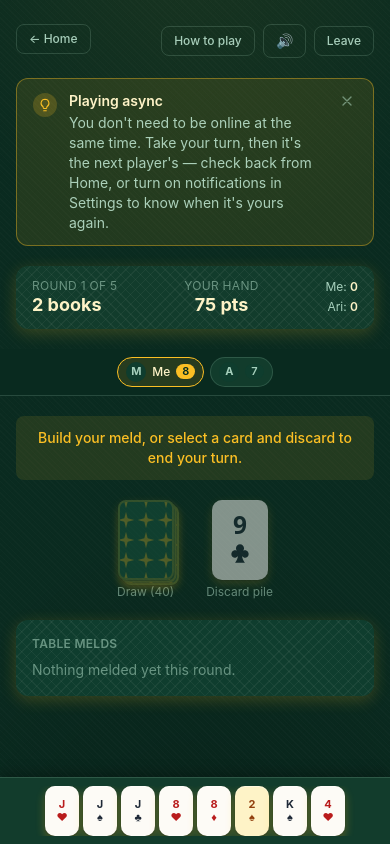
Test: multiplayer play screen — individual actions like solo › Confirm Meld stays disabled until the staged groups complete the contract
Click the button named "Jump to your hand". click: x=195, y=810
box: [0,777,389,843]
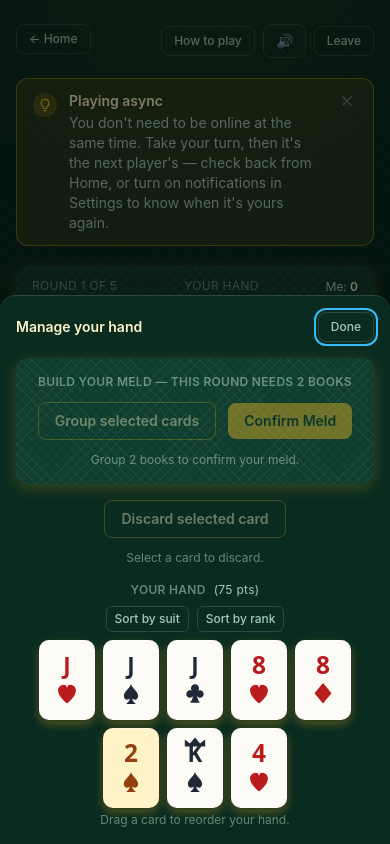
Press Enter in the button named "Jack of hearts", box [39,640,95,720]
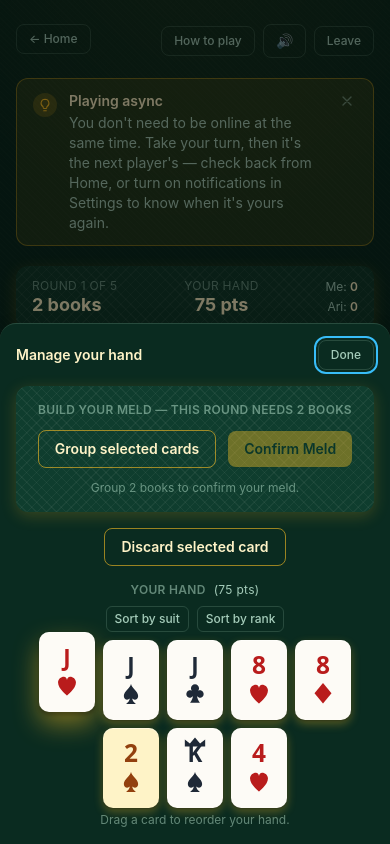
Press Enter in the button named "Jack of spades", box [103,640,159,720]
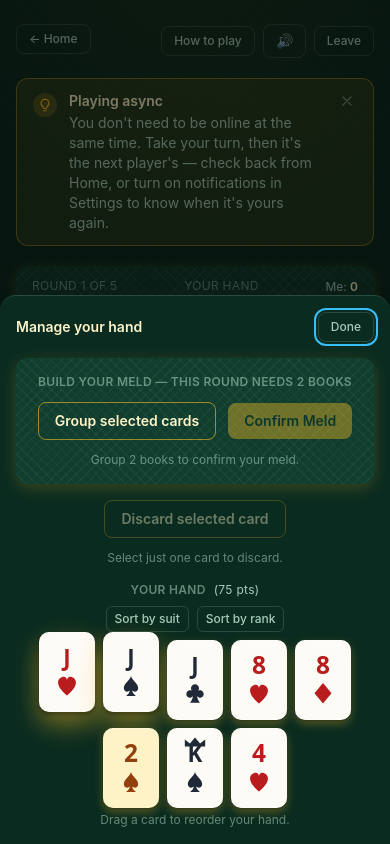
Press Enter in the button named "Jack of clubs", box [167,640,223,720]
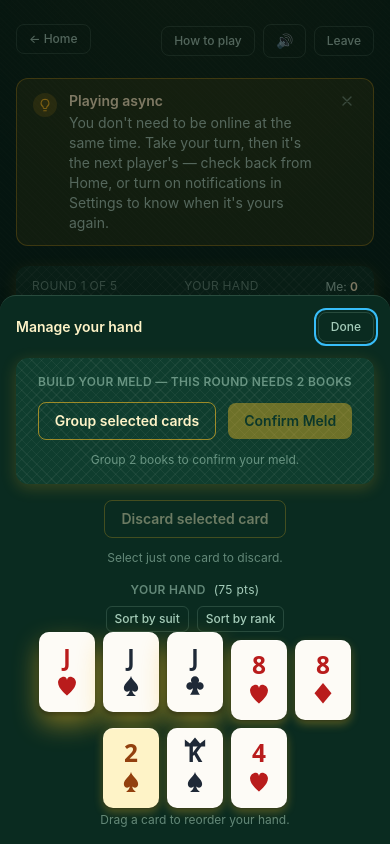
Click the button "Group selected cards". click: x=127, y=421
box: [38,402,216,440]
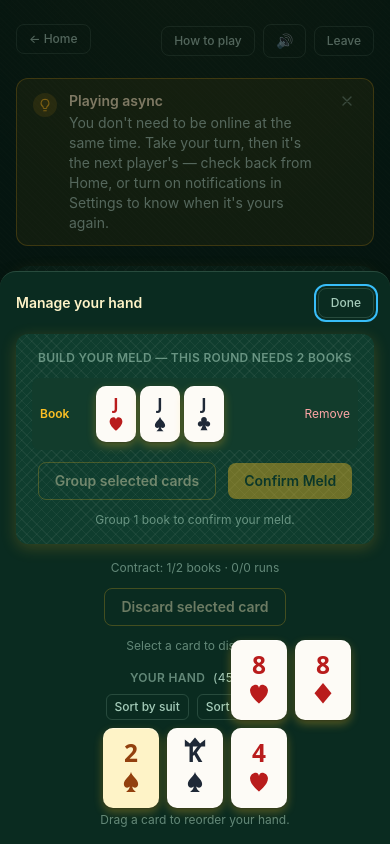
Expected: the button "Confirm Meld" is disabled, [228,463,352,499]
Press Enter in the button named "King of spades", box [167,728,223,808]
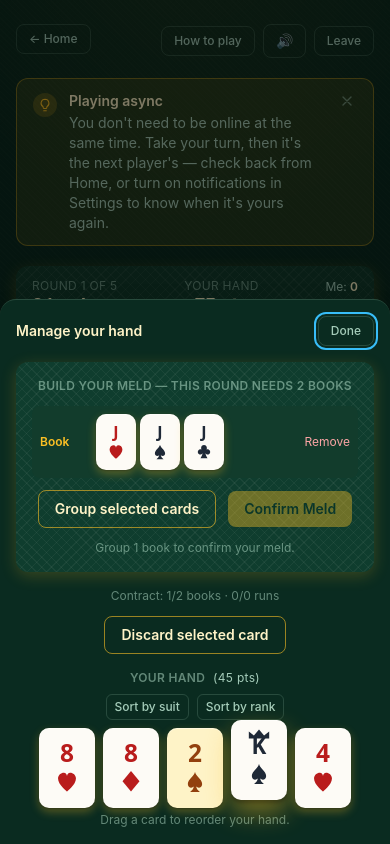
Expected: the button "Discard selected card" is enabled, [104,616,286,654]
